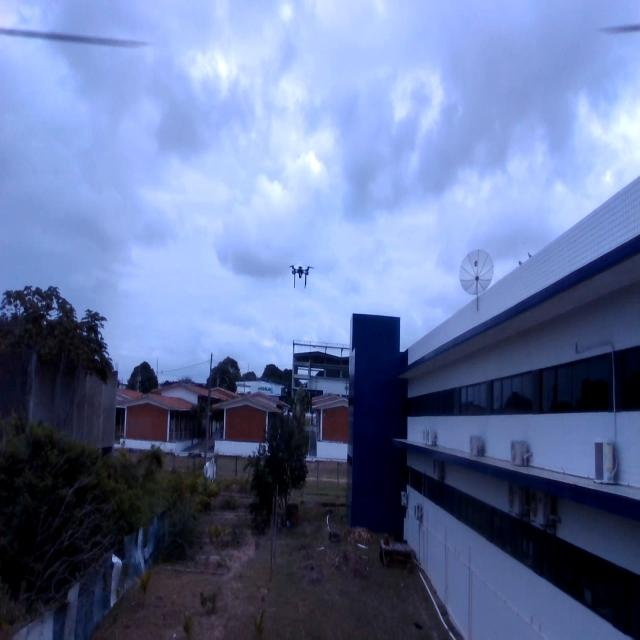-uav-: (286, 255, 316, 301)
